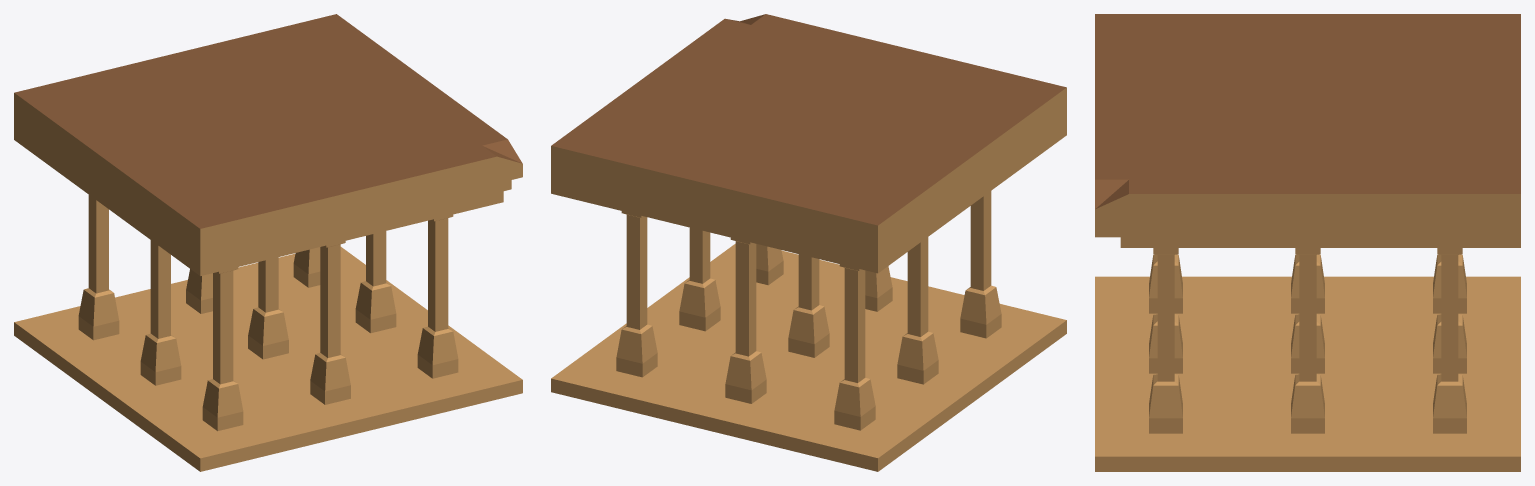
The model's file is hindu-pillars-corner.glb.
3 views of the same model, side by side, from view 1: azimuth 30°, elevation 25°; view 2: azimuth 150°, elevation 25°; view 3: azimuth 270°, elevation 25° (orthographic). The views are drawn at different scales.
Parts seen in each view (by area): view 1: hindu-pillars-corner; view 2: hindu-pillars-corner; view 3: hindu-pillars-corner.
Part boxes in pixels (x1,y1,x2,y2): hindu-pillars-corner: (14,14,522,471); hindu-pillars-corner: (551,14,1066,471); hindu-pillars-corner: (1095,14,1520,471).
Size of the model in its own units: 5 by 3.6 by 5.
1 material, 1 textured.
